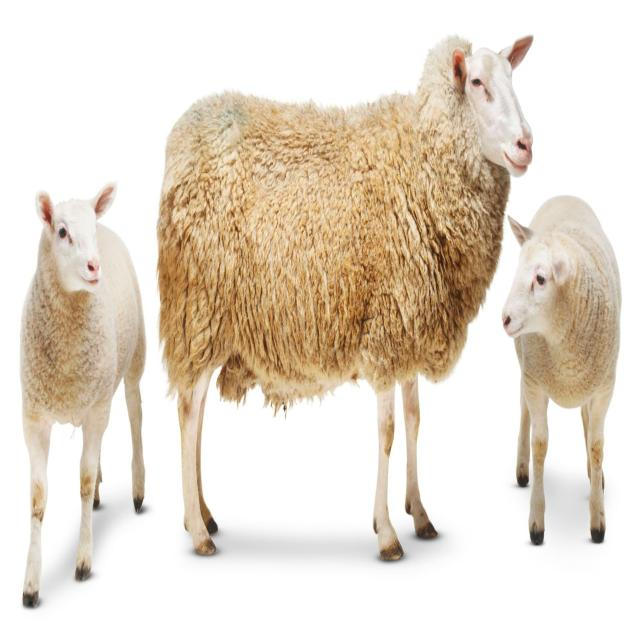sheep: (157, 36, 533, 559), (20, 183, 145, 606), (502, 196, 621, 544)
